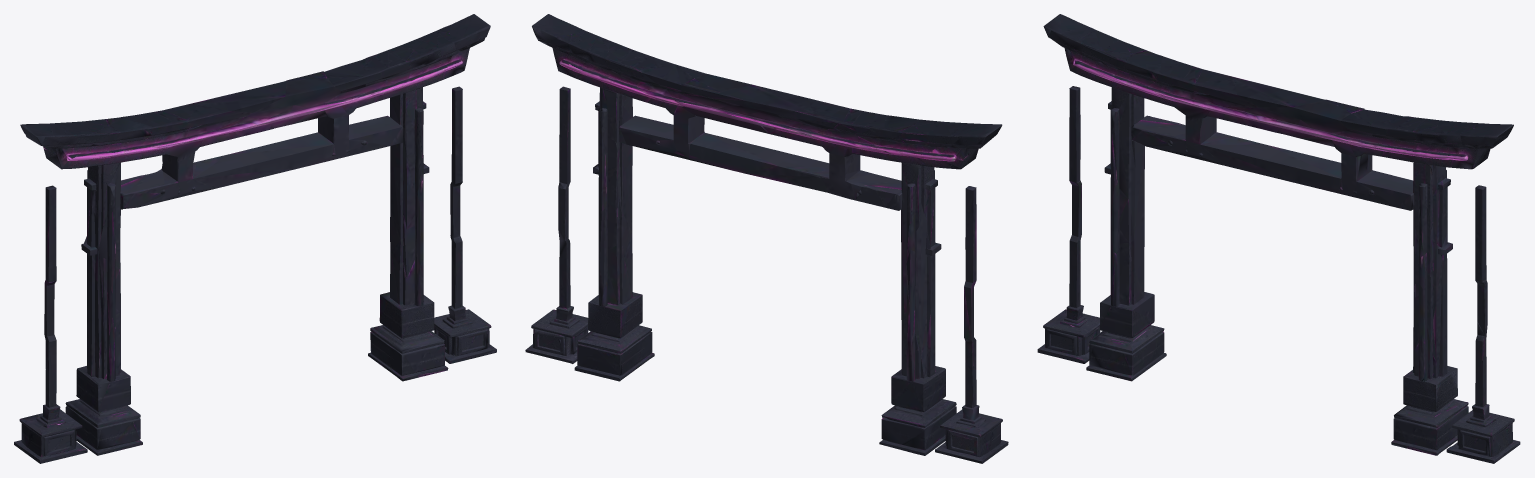
Rendered from mx_prop_neon_arch.glb.
The picture shows the model from 3 angles, left to right: view 1: azimuth 30°, elevation 25°; view 2: azimuth 150°, elevation 25°; view 3: azimuth 330°, elevation 25°; orthographic projection.
Bounding box in the file's own units: 1.9 × 1.3 × 0.252.
1 material, 1 textured.
